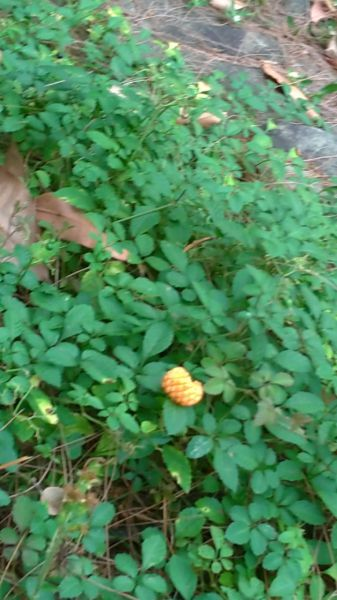eggs: (158, 364, 210, 414)
